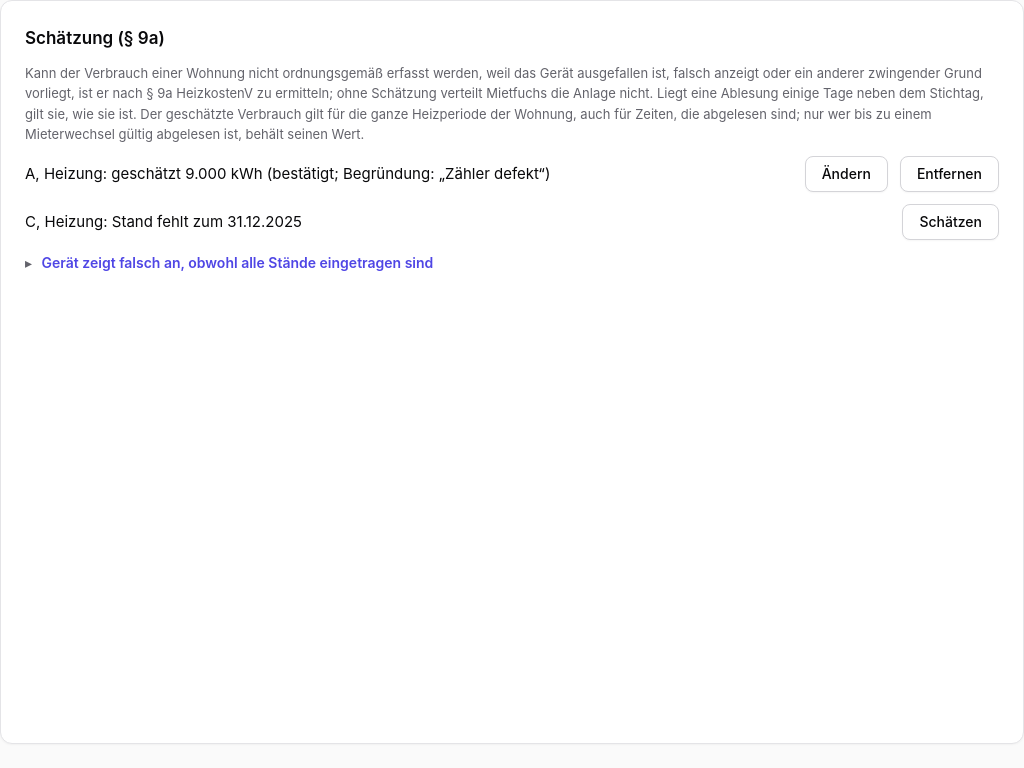
R-M2: ohne Bestätigung gespeichert sagt die Meldung das
Click the button with aria-label "C schätzen" at [951, 222], box [902,204,999,240]
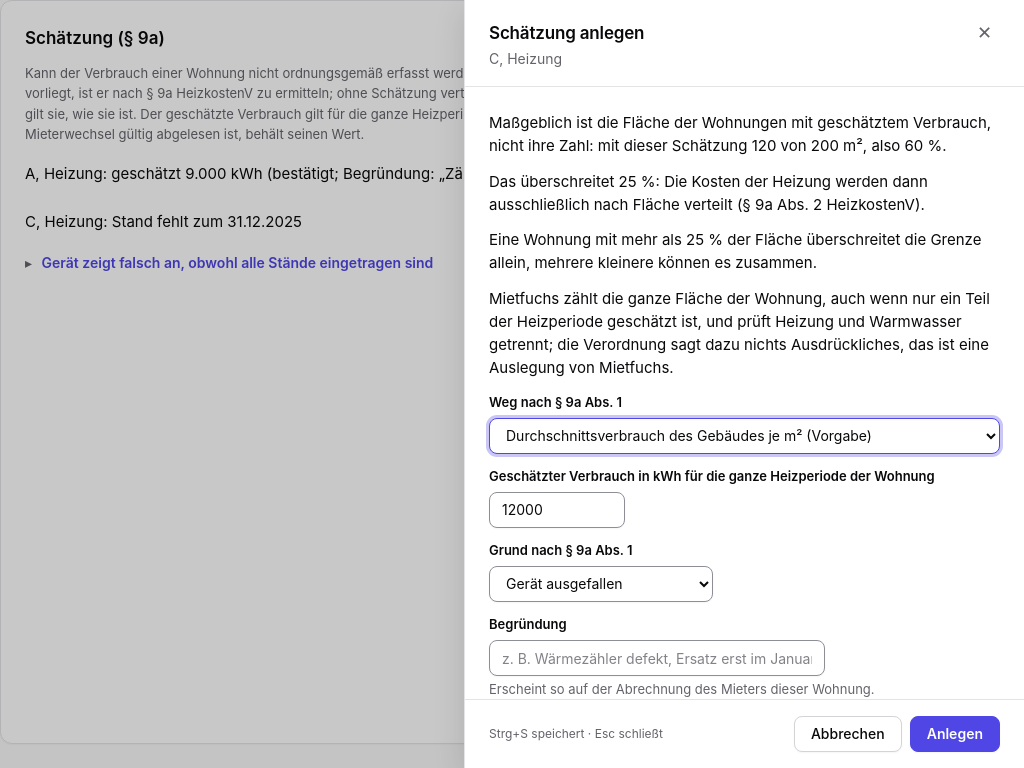
Type "Wärmezähler defekt" into the field labelled "Begründung" at [657, 658], box [489,640,825,676]
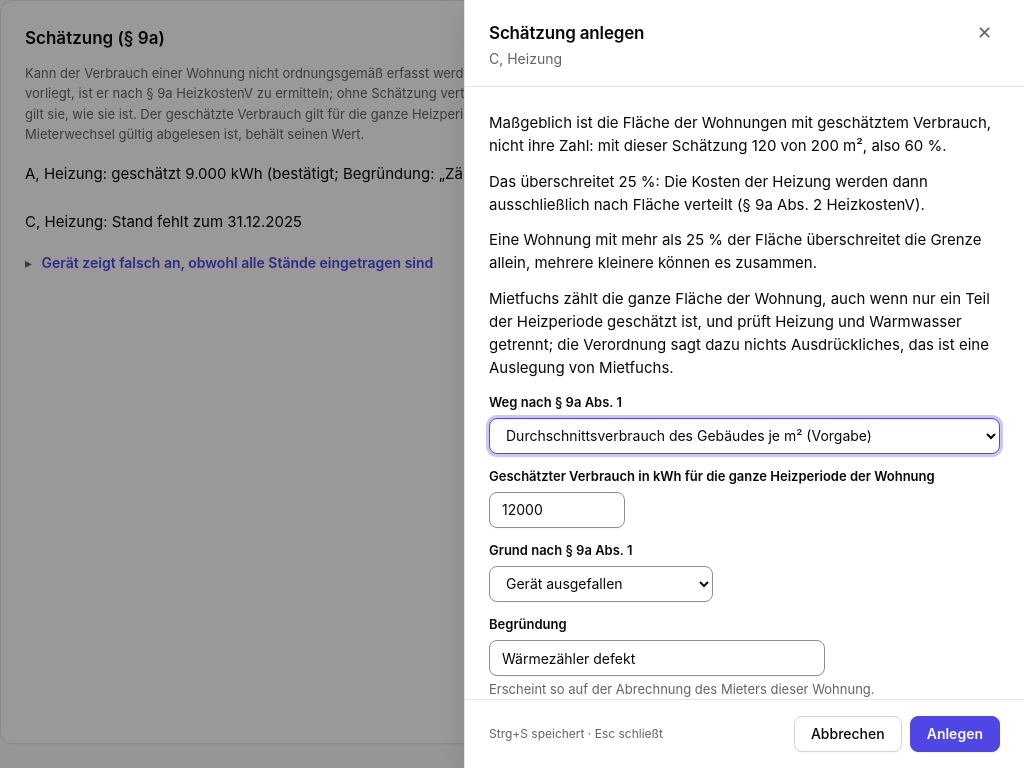
Click the button "Anlegen" at [955, 734], box [910,716,1000,752]
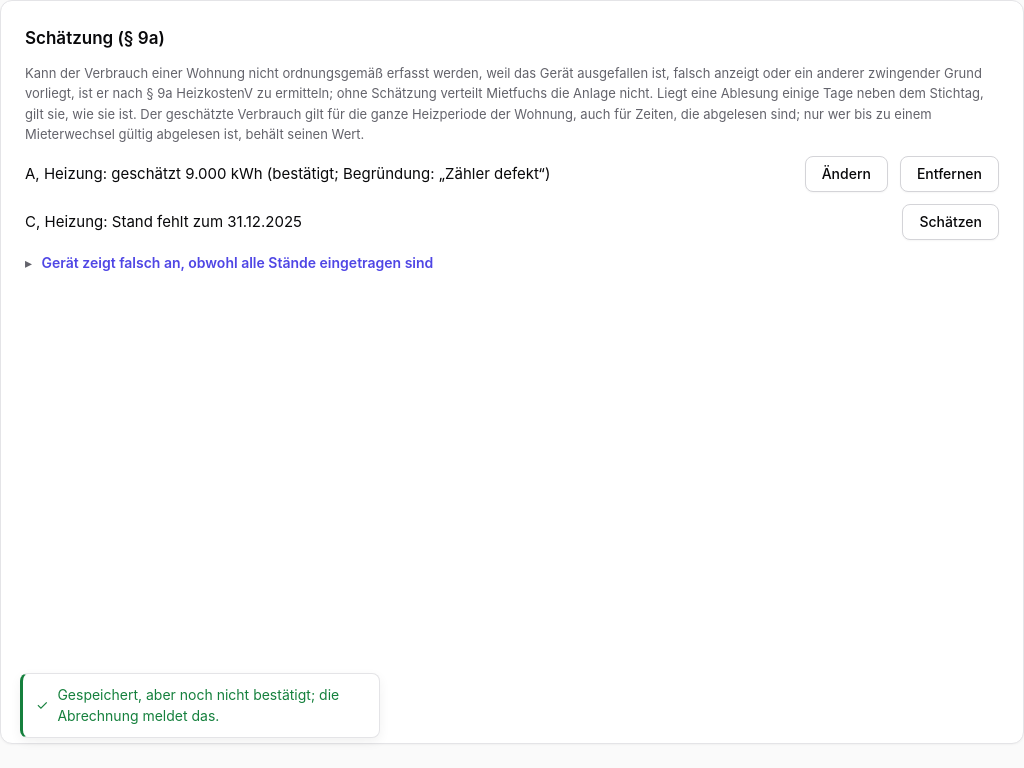
Now the text "Gespeichert, aber noch nicht bestätigt; die Abrechnung meldet das" is shown, box [57,686,339,724]
